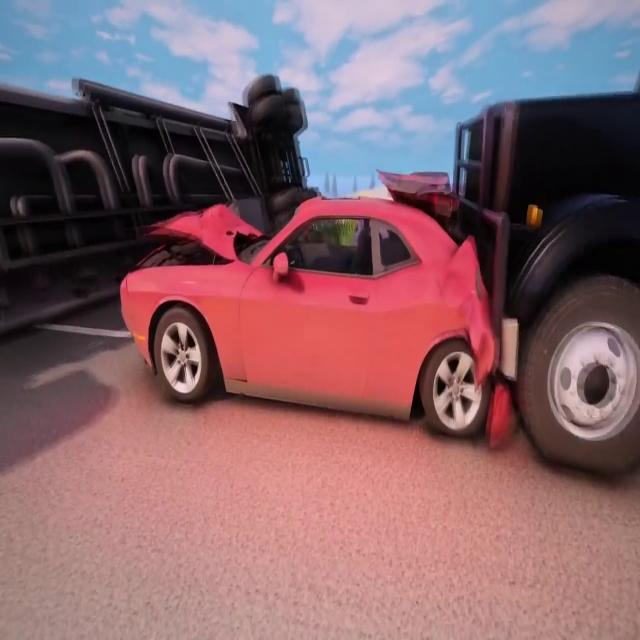accident: (0, 66, 640, 488)
